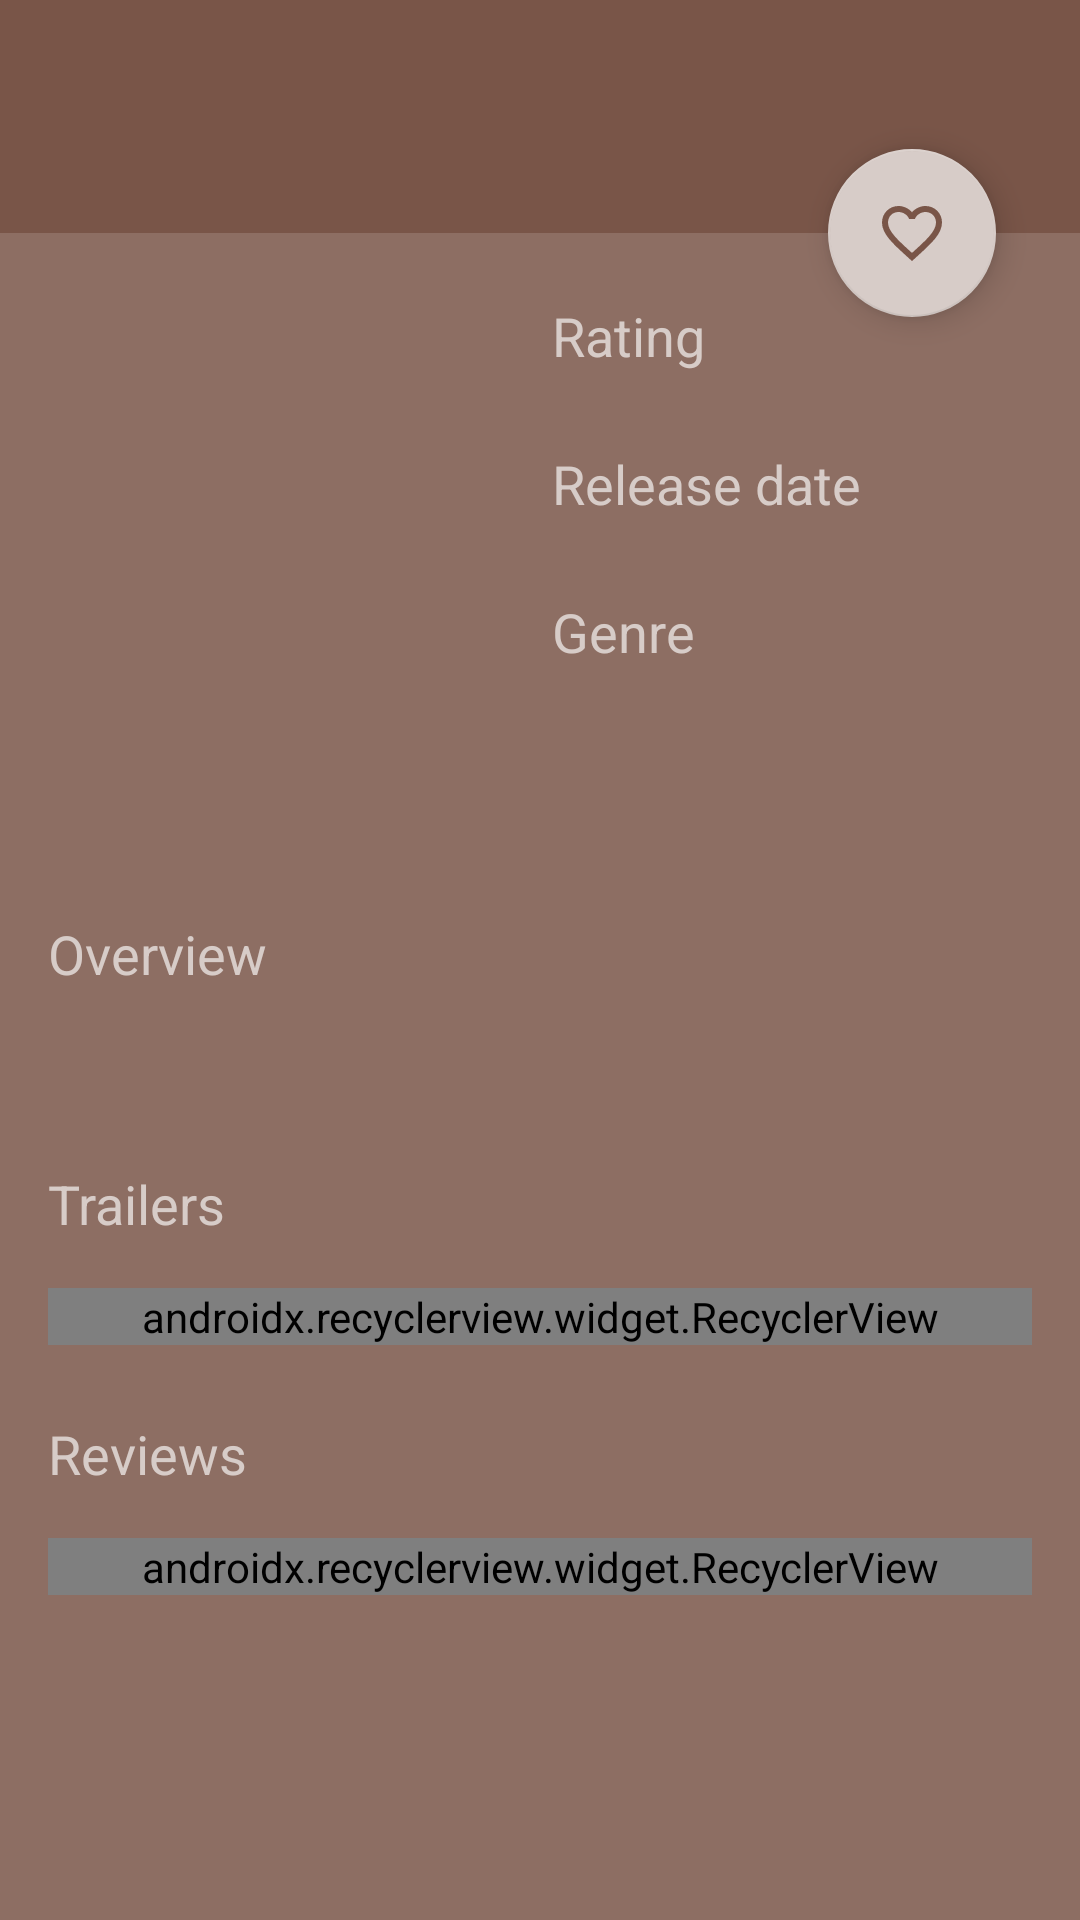

Point at icon controls on the screen. Image size 1080px x 1920px, points as (x=x, y=y).
favorite border: (x=912, y=233)
